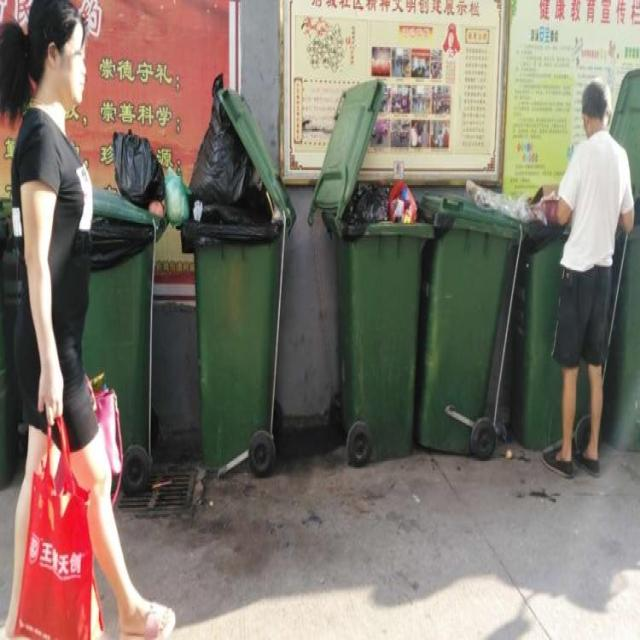overflow: (167, 72, 294, 468), (78, 130, 164, 484), (419, 180, 520, 450), (337, 179, 433, 458), (515, 185, 564, 444)
